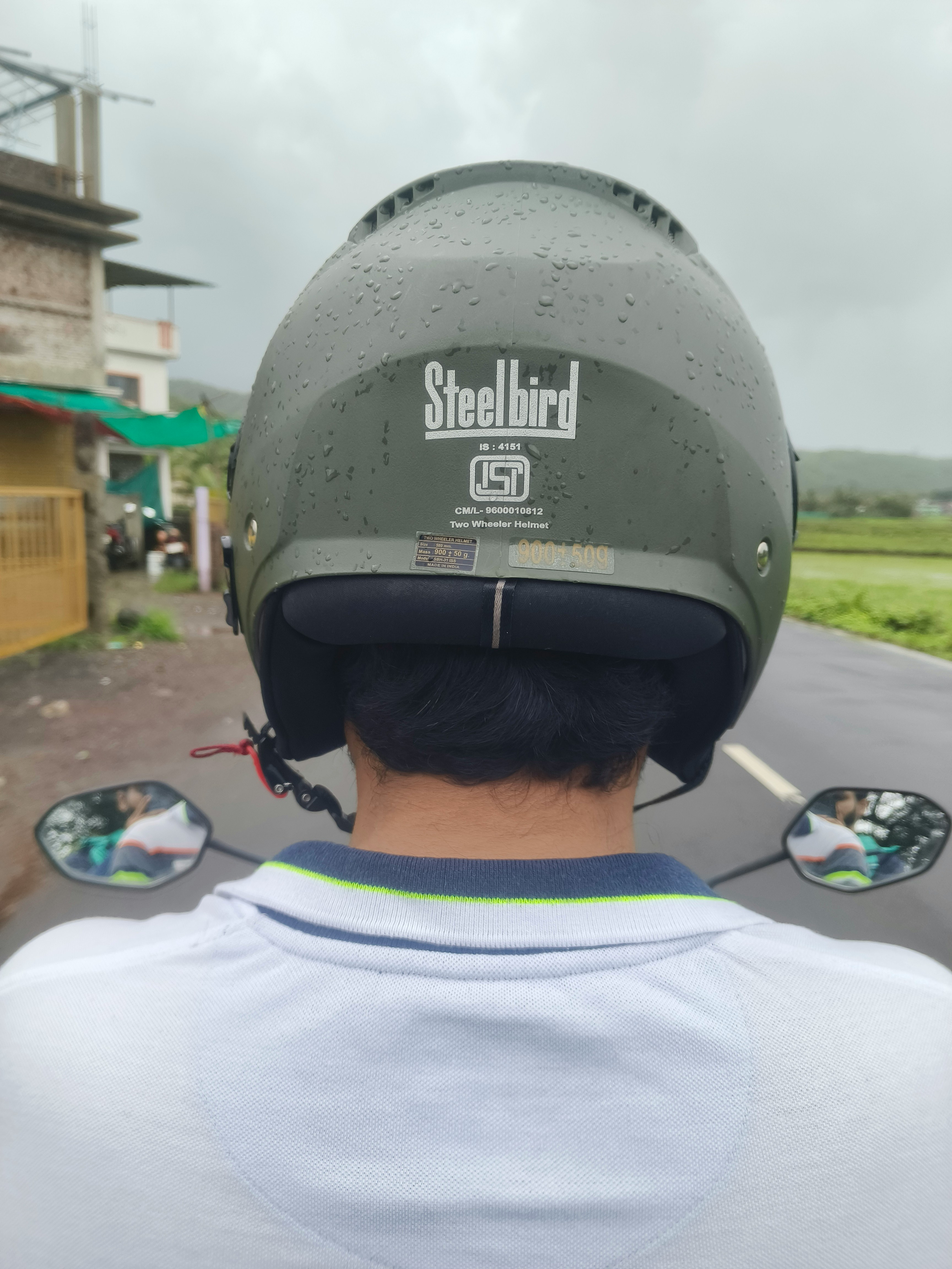Helmet: (201, 140, 820, 865)
